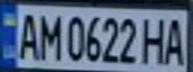0: (63, 11, 84, 62)
2: (118, 14, 142, 65), (100, 12, 121, 64)
6: (81, 12, 103, 63)
A: (12, 9, 42, 61), (160, 14, 190, 65)
H: (139, 14, 172, 65)
M: (36, 10, 63, 61)
